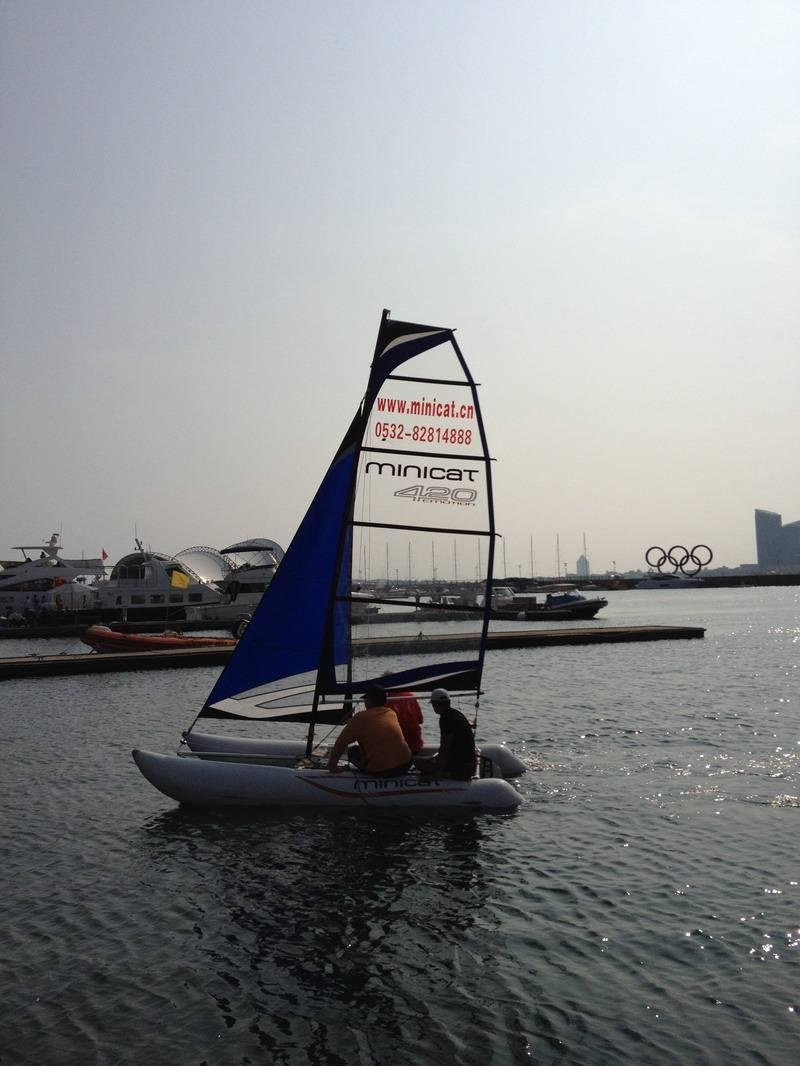fanchuan: (128, 307, 531, 817)
person: (324, 686, 412, 787), (412, 685, 480, 784)
